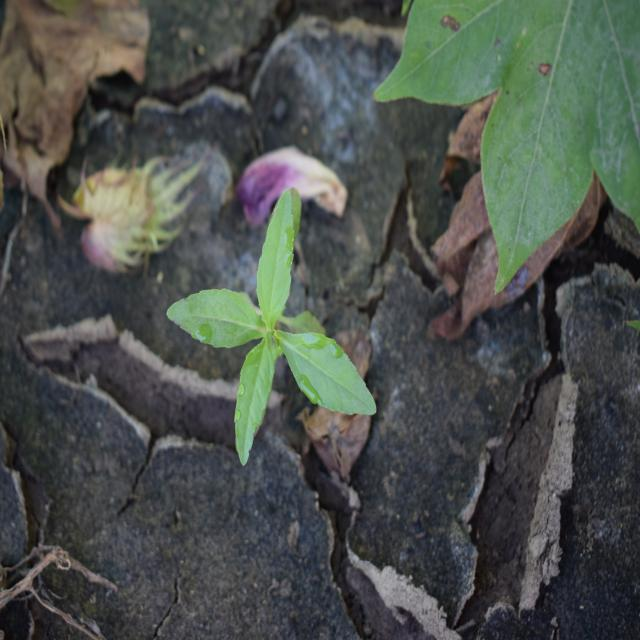Eclipta: (166, 185, 378, 466)
